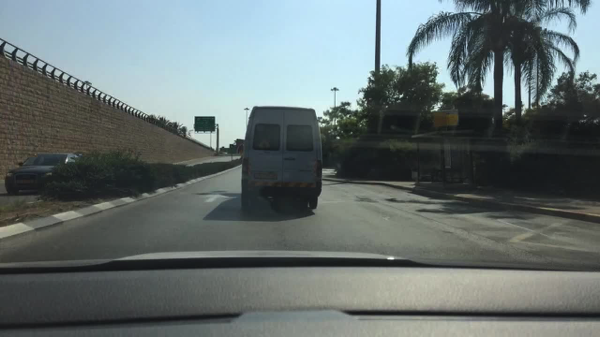car: (240, 105, 323, 208), (5, 153, 83, 193)
traffic sign: (432, 110, 458, 127), (193, 116, 215, 131), (229, 144, 234, 152)
